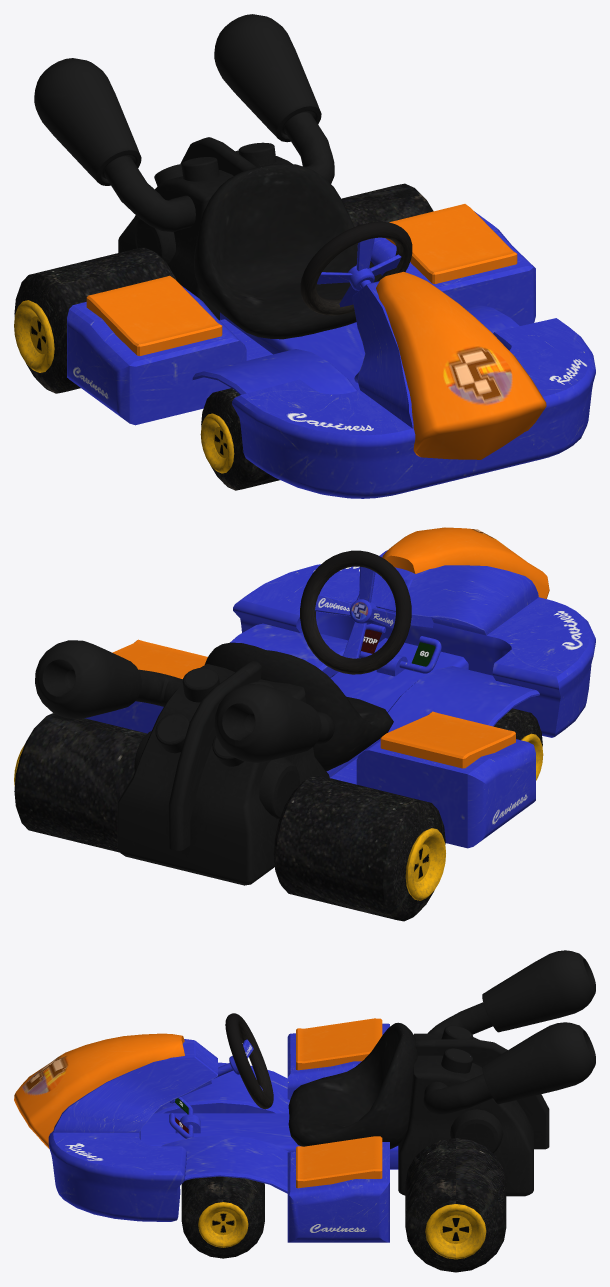
Rendered from cartoonish_go-kart.glb.
3 renders of one model, top to bottom at view 1: azimuth 30°, elevation 25°; view 2: azimuth 150°, elevation 25°; view 3: azimuth 270°, elevation 25°, orthographic. The views are drawn at different scales.
Parts seen in each view (by area): view 1: Object_3, Object_4, Object_5; view 2: Object_3, Object_5, Object_4; view 3: Object_3, Object_4, Object_5.
Boxes of the visible parts, x1=… form: Object_3: x1=14, y1=106, x2=595, y2=498; Object_4: x1=34, y1=14, x2=546, y2=459; Object_5: x1=14, y1=163, x2=433, y2=490; Object_3: x1=14, y1=555, x2=595, y2=900; Object_5: x1=14, y1=550, x2=542, y2=921; Object_4: x1=35, y1=527, x2=549, y2=762; Object_3: x1=48, y1=955, x2=595, y2=1259; Object_4: x1=14, y1=950, x2=595, y2=1148; Object_5: x1=175, y1=1013, x2=506, y2=1272.
Bounding box in the file's own units: 1.64 × 0.9733 × 2.42.
Materials: 3 (3 with a texture image).
